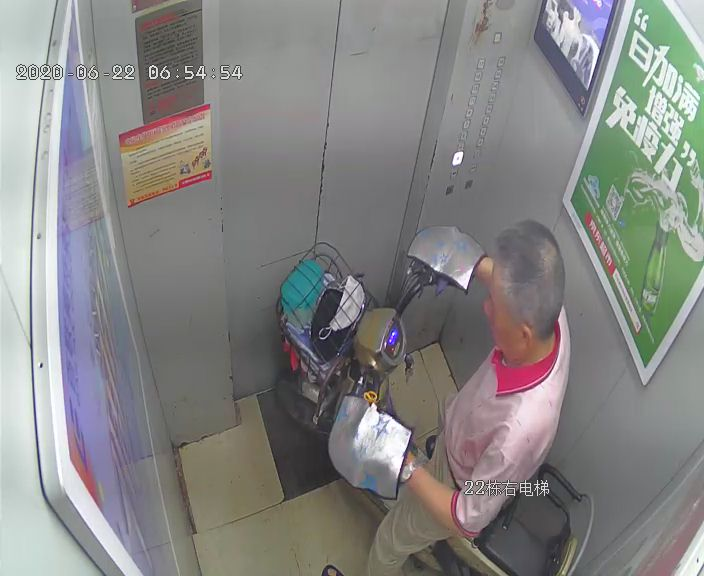Electric-bicycle: (277, 222, 595, 575)
